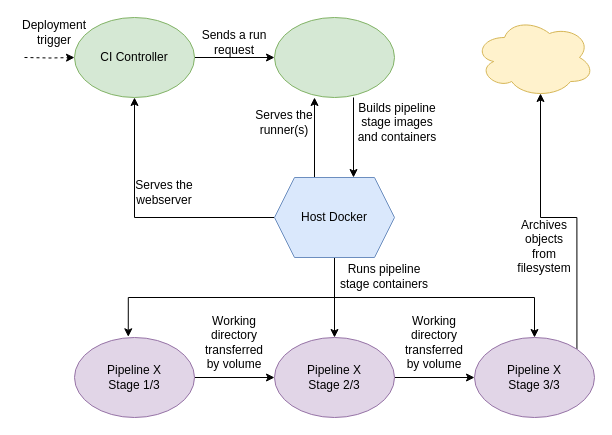
Some shapes in this 612 by 435 pixel diagram are drawn without their labels. The box of each missing label's shape, as (x1, y1, x2, y2) in pixels:
Pipeline Runner(s): (274, 16, 394, 98)
S3 Object Storage: (474, 16, 594, 98)
